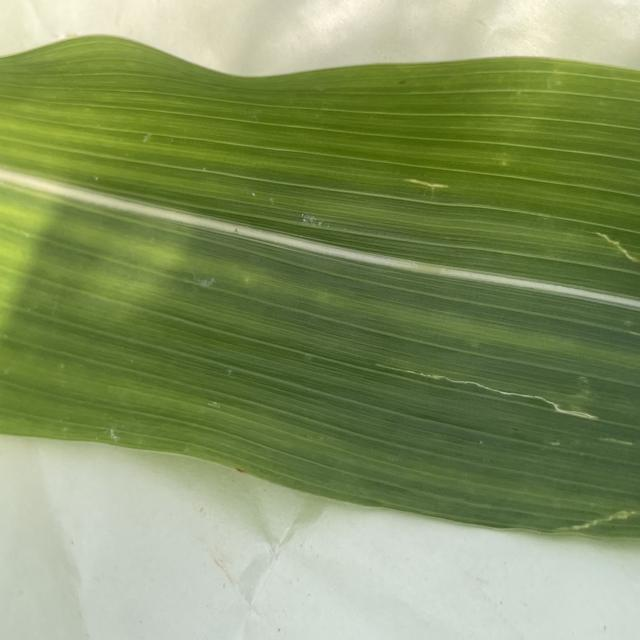millet_healthy: (1, 38, 640, 539)
